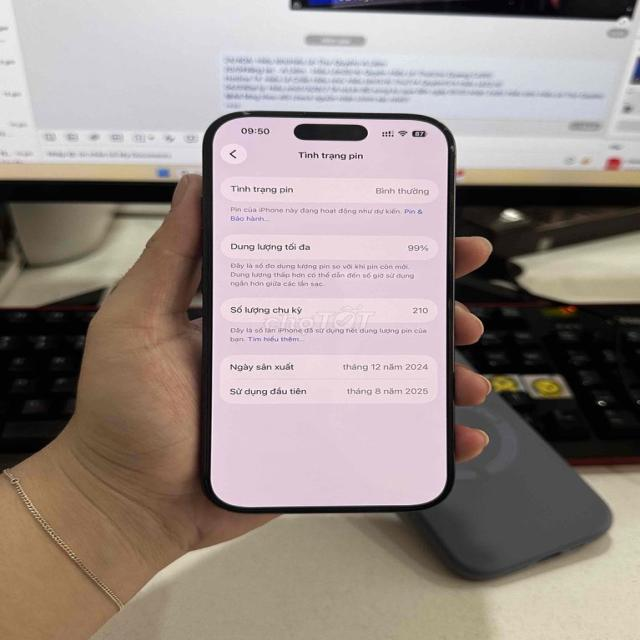gen_16: (197, 111, 455, 512)
